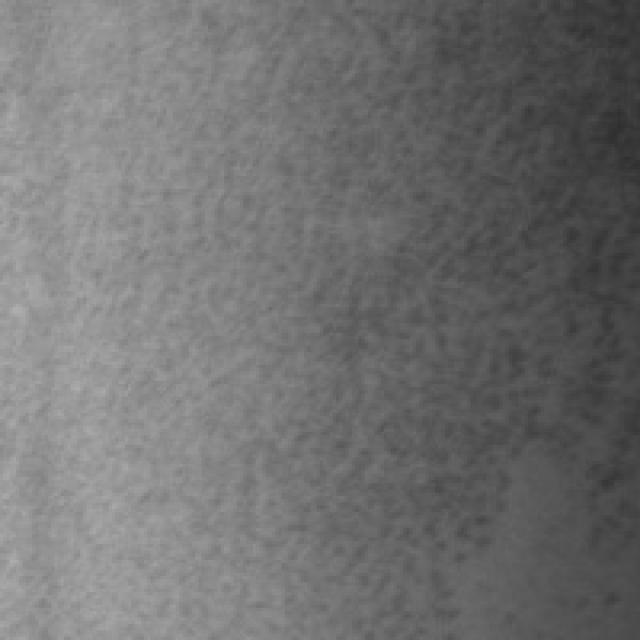pitted_surface: (144, 0, 637, 637)
